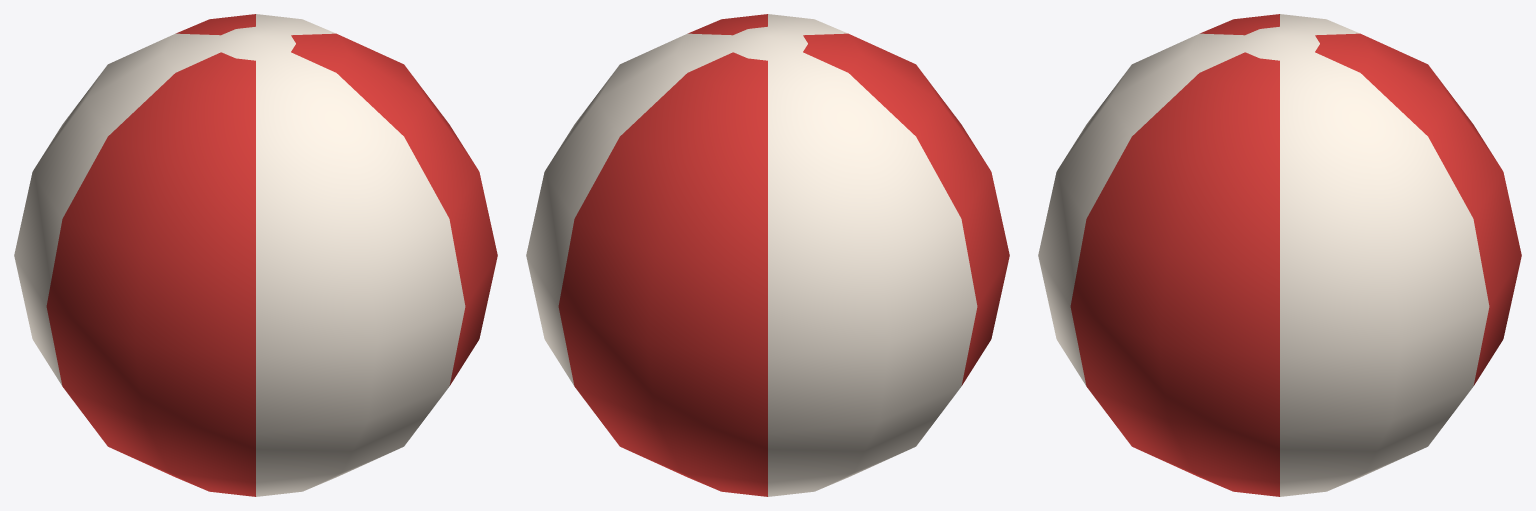
File: Ball_01.fbx
The picture shows the model from 3 angles, left to right: view 1: azimuth 30°, elevation 25°; view 2: azimuth 150°, elevation 25°; view 3: azimuth 270°, elevation 25°; orthographic projection.
Visible parts, largest first — view 1: Ball_01; view 2: Ball_01; view 3: Ball_01.
Boxes of the visible parts, left/top/right/bottom form: Ball_01: left=14, top=14, right=497, bottom=496; Ball_01: left=526, top=14, right=1009, bottom=496; Ball_01: left=1038, top=14, right=1521, bottom=496.
Bounding box in the file's own units: 0.3309 × 0.3309 × 0.3309.
